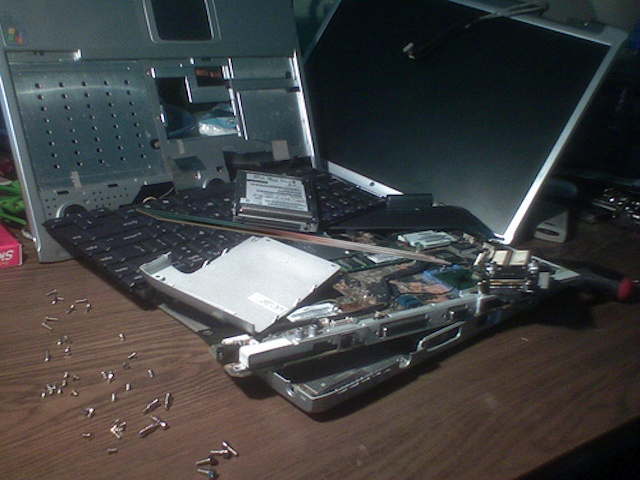ruler: (129, 201, 456, 272)
